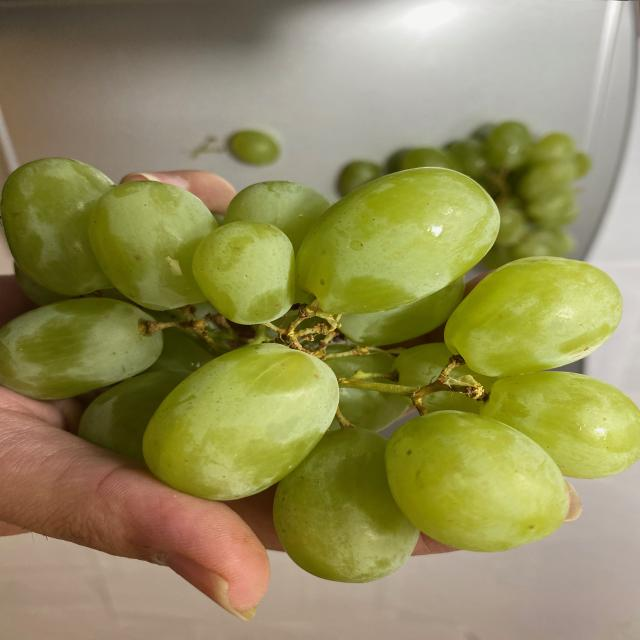grapes: (2, 152, 638, 580)
